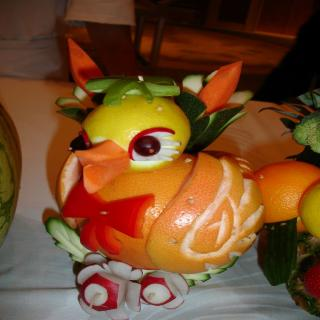Orange: (69, 151, 258, 267), (260, 160, 320, 223)
